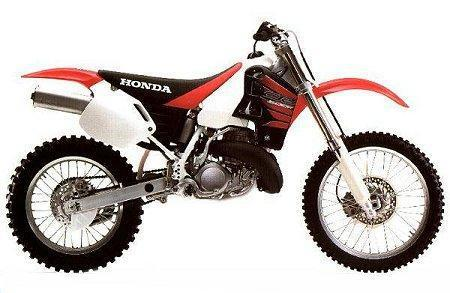motorcycle: (4, 11, 450, 285)
